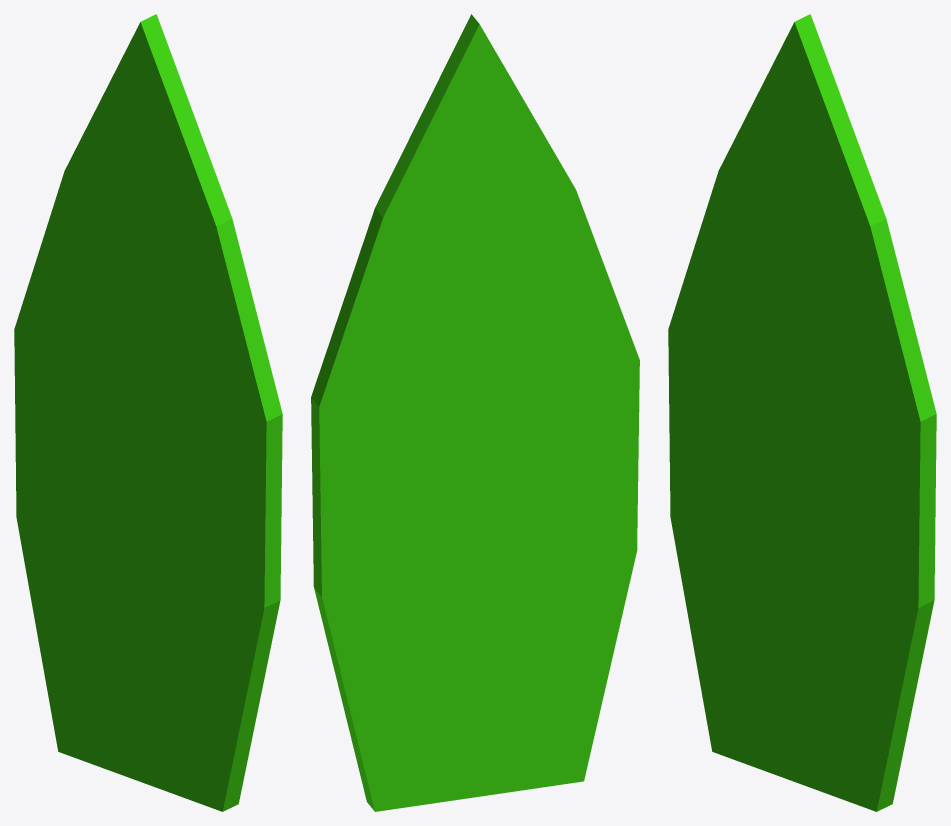
The model's file is Rigged Grass Export 24.fbx.
3 renders of one model, left to right at view 1: azimuth 90°, elevation 25°; view 2: azimuth 150°, elevation 25°; view 3: azimuth 270°, elevation 25°, orthographic.
Visible parts, largest first — view 1: Grass 2 Left Left 4; view 2: Grass 2 Left Left 4; view 3: Grass 2 Left Left 4.
Part boxes in pixels (<box>): Grass 2 Left Left 4: <box>14,14,282,811</box>; Grass 2 Left Left 4: <box>311,14,639,811</box>; Grass 2 Left Left 4: <box>668,14,936,811</box>.
Size of the model in its own units: 99.77 by 353 by 113.
